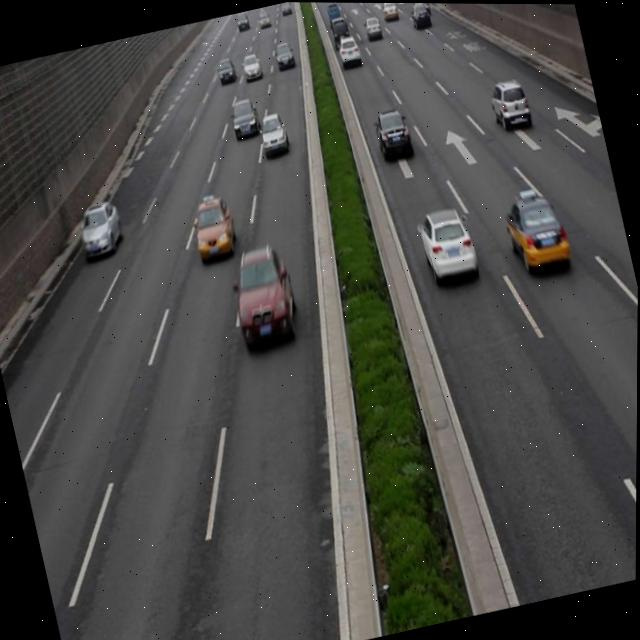car: (224, 239, 302, 349), (498, 181, 575, 281), (414, 204, 481, 290), (187, 194, 239, 264), (74, 197, 126, 259), (484, 74, 533, 135), (371, 106, 413, 161), (226, 97, 262, 142), (257, 112, 289, 156)
